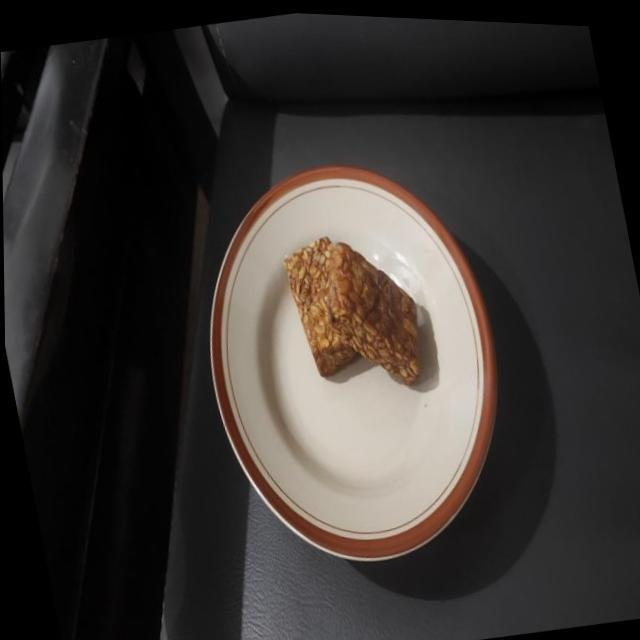tempe_goreng: (328, 242, 418, 385), (284, 237, 358, 376)
